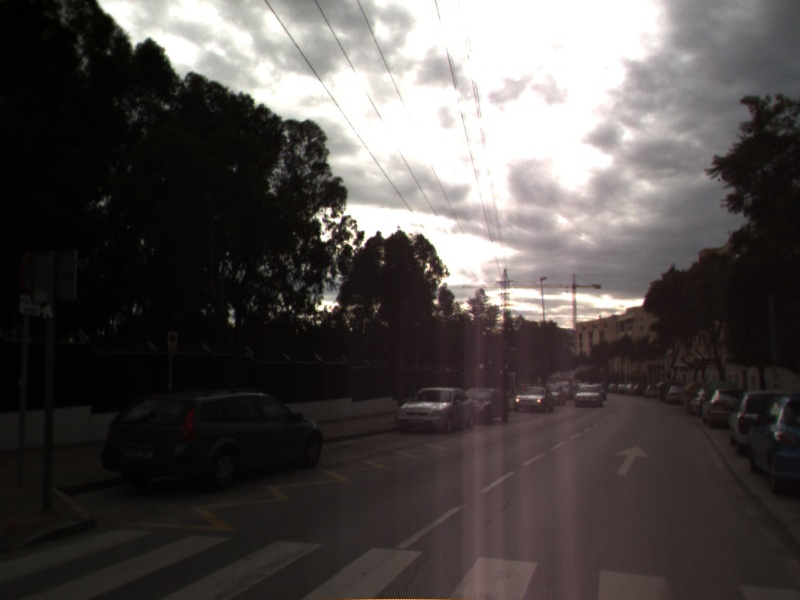STRAIGHT: (612, 443, 652, 477)
